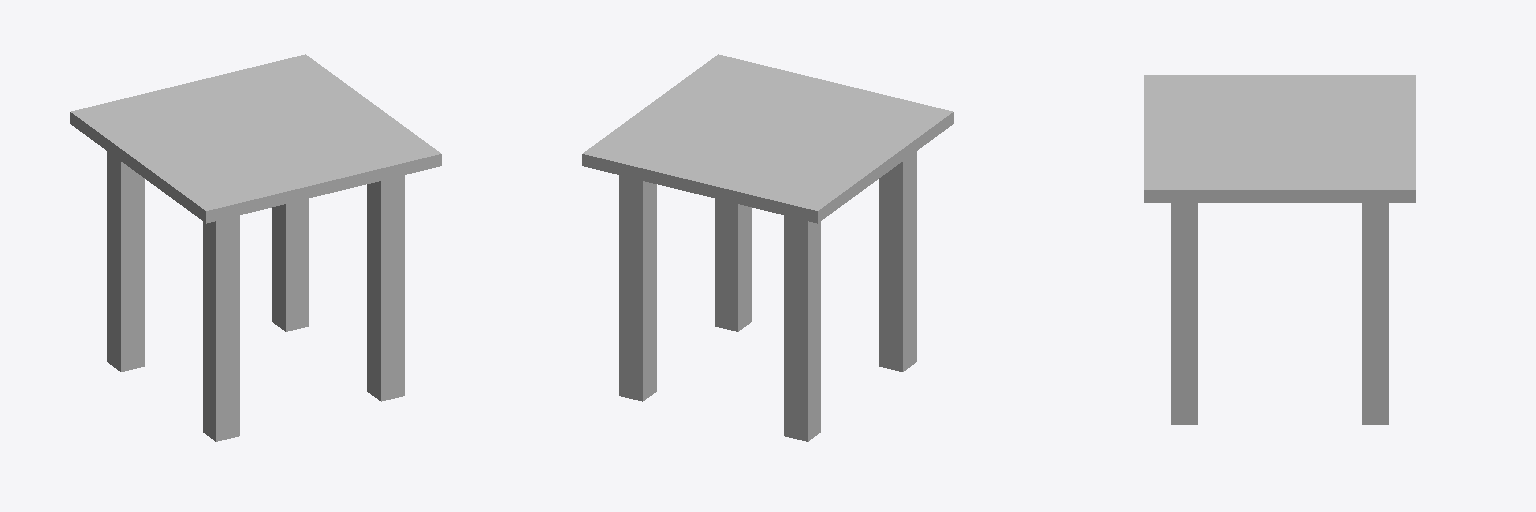
Rendered from table_collider.obj.
3 renders of one model, left to right at view 1: azimuth 30°, elevation 25°; view 2: azimuth 150°, elevation 25°; view 3: azimuth 270°, elevation 25°, orthographic.
Parts seen in each view (by area): view 1: Cube.001_Cube.006, Cube.002_Cube.008, Cube.003_Cube.008, Cube.004_Cube.008, Cube.005_Cube.008; view 2: Cube.001_Cube.006, Cube.005_Cube.008, Cube.004_Cube.008, Cube.003_Cube.008, Cube.002_Cube.008; view 3: Cube.001_Cube.006, Cube.002_Cube.008, Cube.005_Cube.008.
Boxes of the visible parts, x1=… form: Cube.001_Cube.006: x1=70, y1=54, x2=441, y2=223; Cube.002_Cube.008: x1=367, y1=140, x2=404, y2=401; Cube.003_Cube.008: x1=203, y1=180, x2=239, y2=441; Cube.004_Cube.008: x1=107, y1=111, x2=144, y2=371; Cube.005_Cube.008: x1=272, y1=70, x2=308, y2=331; Cube.001_Cube.006: x1=582, y1=54, x2=953, y2=223; Cube.005_Cube.008: x1=619, y1=140, x2=656, y2=401; Cube.004_Cube.008: x1=784, y1=180, x2=820, y2=441; Cube.003_Cube.008: x1=879, y1=111, x2=916, y2=371; Cube.002_Cube.008: x1=715, y1=70, x2=751, y2=331; Cube.001_Cube.006: x1=1144, y1=75, x2=1415, y2=202; Cube.002_Cube.008: x1=1171, y1=167, x2=1197, y2=424; Cube.005_Cube.008: x1=1362, y1=167, x2=1388, y2=424.
Bounding box in the file's own units: 2 × 2 × 2.